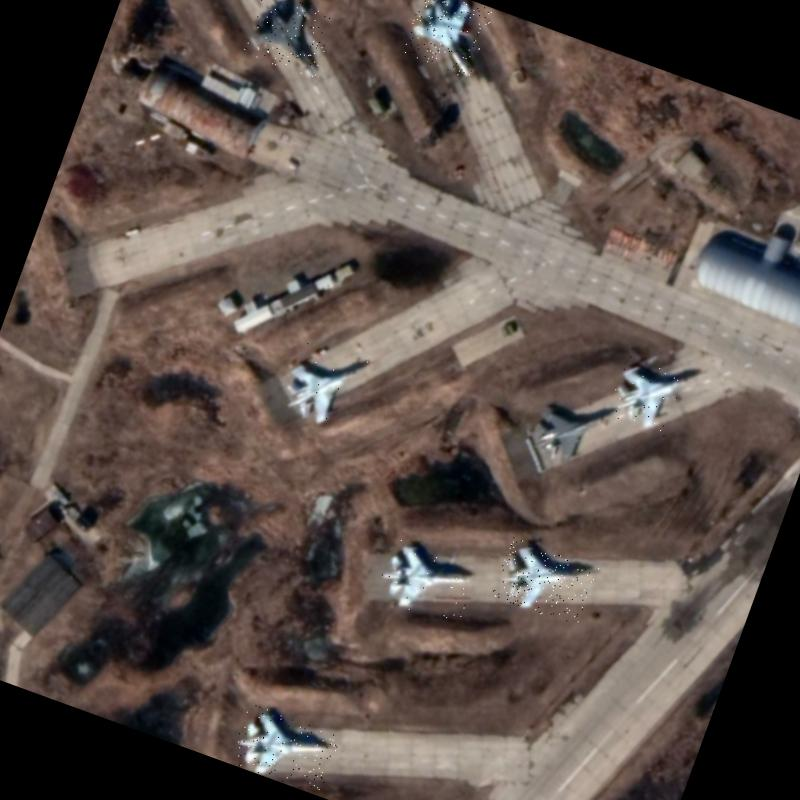A1: (228, 703, 340, 795), (371, 534, 480, 628), (273, 334, 372, 435), (490, 536, 598, 628), (527, 384, 617, 476), (240, 0, 337, 79), (400, 0, 495, 79), (604, 354, 688, 438)
